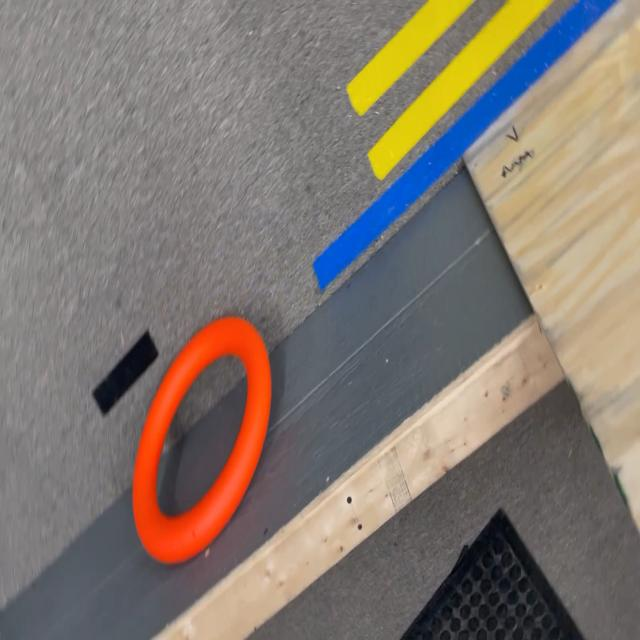note: (133, 315, 272, 565)
